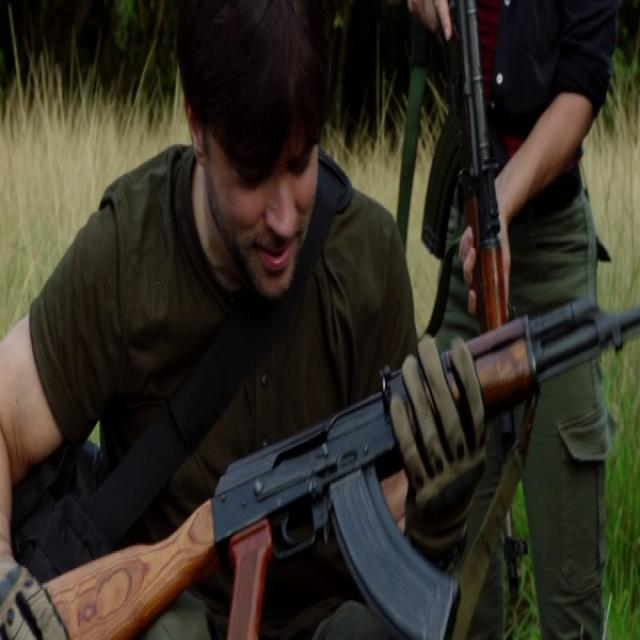rifle: (20, 292, 640, 640), (449, 1, 516, 337)
